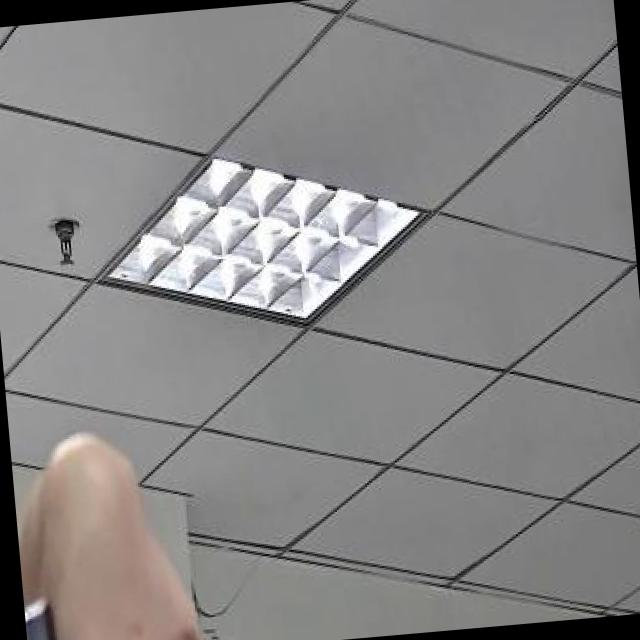Guns: (19, 541, 188, 640)
